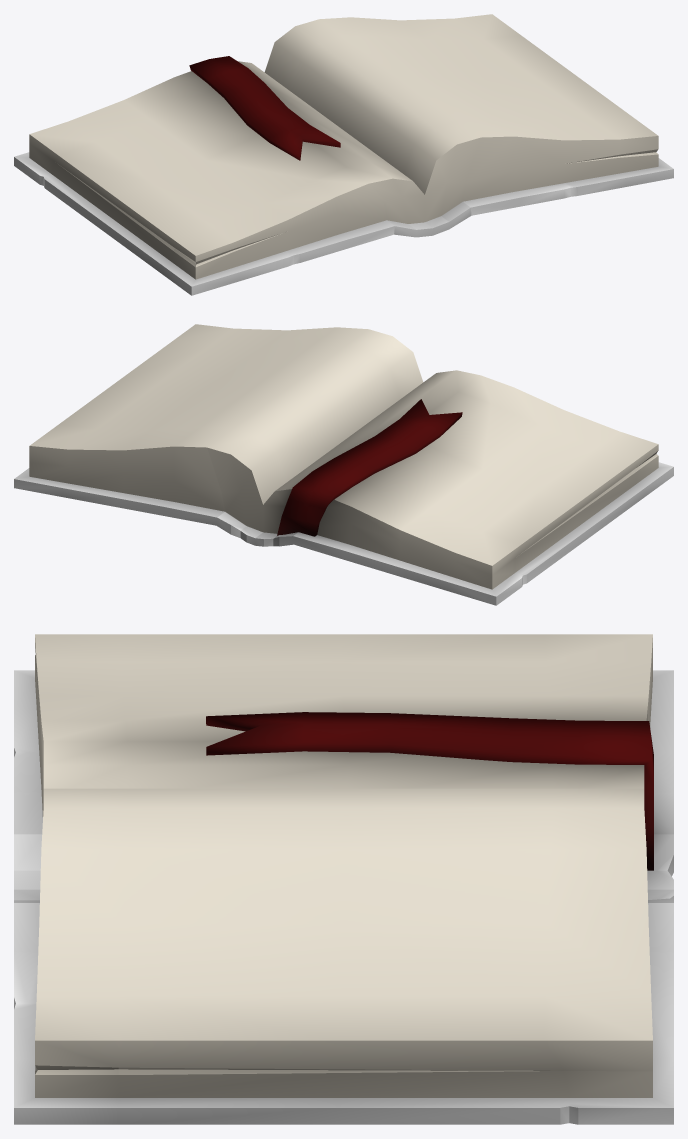
The model's file is obj_bookOpen_B.FBX.
3 views of the same model, one above another, from view 1: azimuth 30°, elevation 25°; view 2: azimuth 150°, elevation 25°; view 3: azimuth 270°, elevation 25° (orthographic). The views are drawn at different scales.
Visible parts, largest first — view 1: obj_bookOpen_B; view 2: obj_bookOpen_B; view 3: obj_bookOpen_B.
Part boxes in pixels (left/top/right/bottom): obj_bookOpen_B: left=14, top=14, right=673, bottom=295; obj_bookOpen_B: left=14, top=324, right=673, bottom=605; obj_bookOpen_B: left=14, top=634, right=673, bottom=1124.
Size of the model in its own units: 1.74 by 0.2818 by 1.11.
